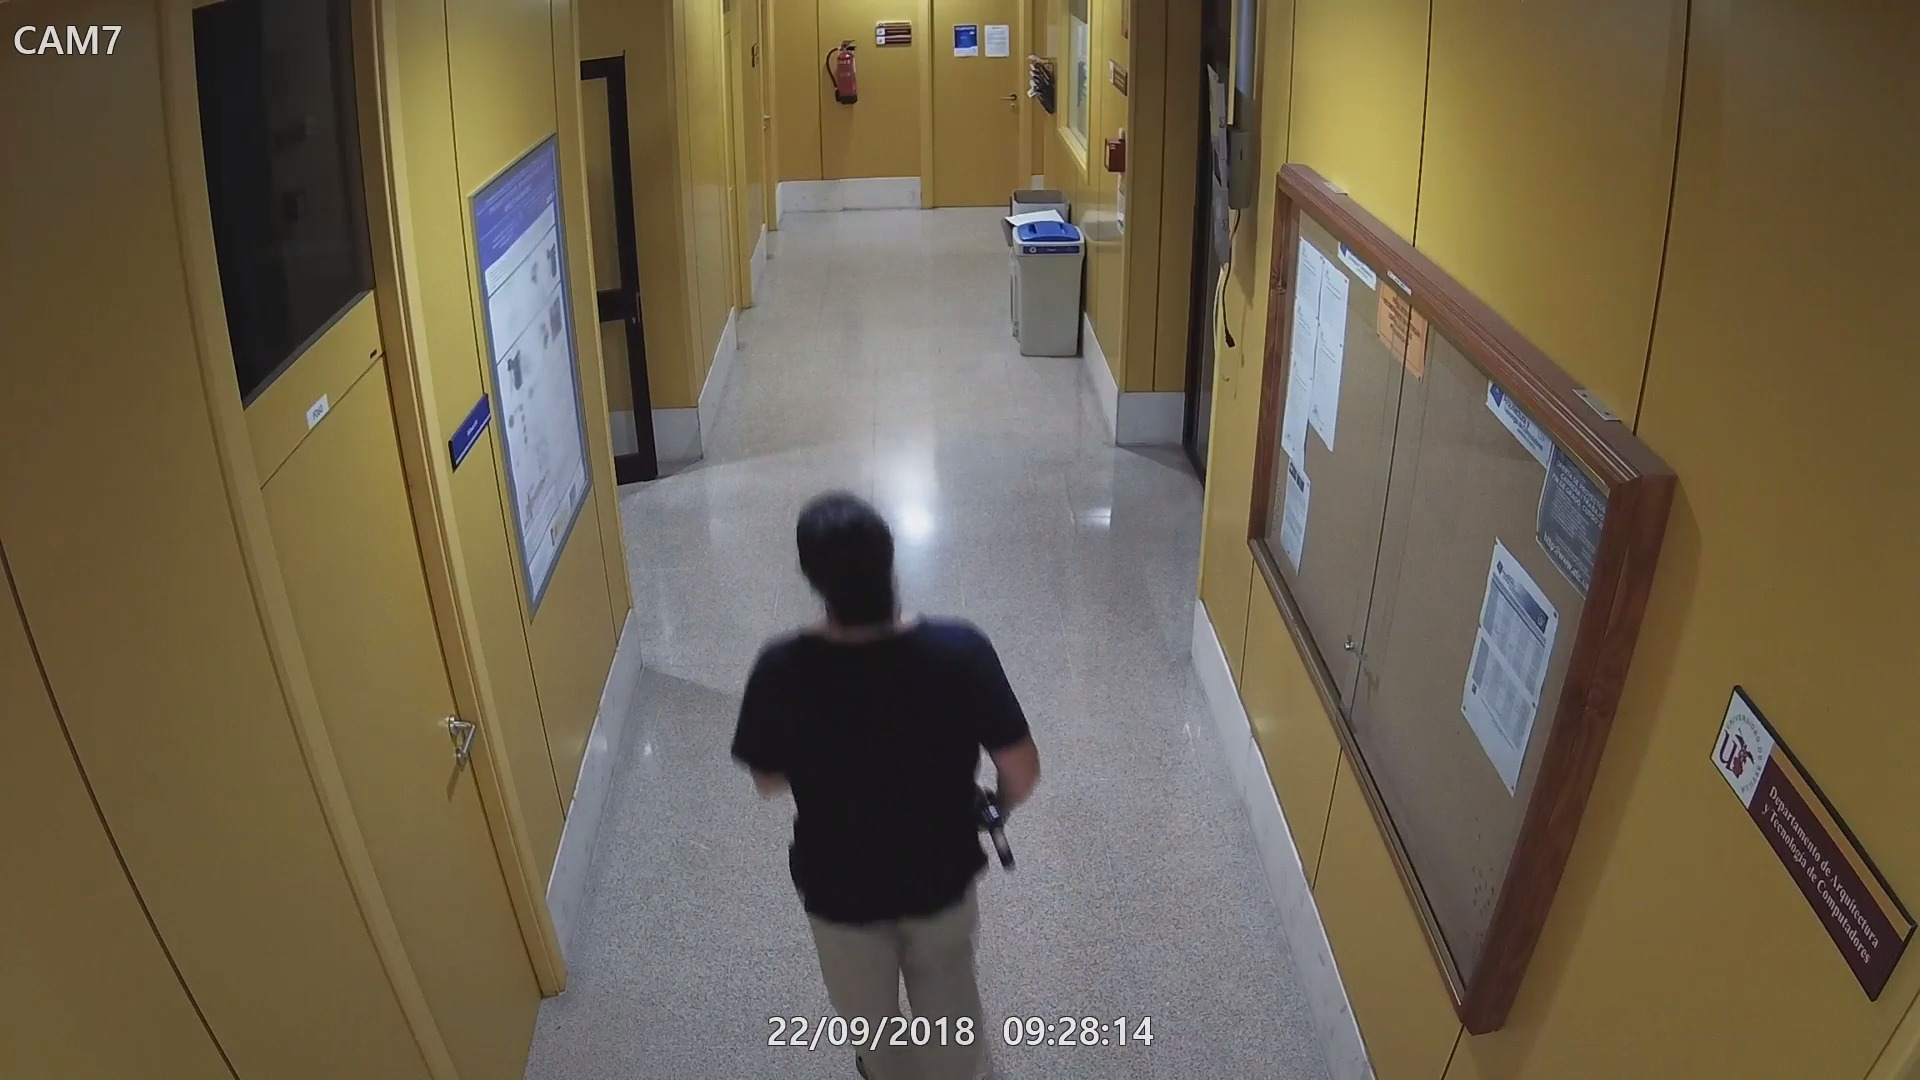Short_rifle: (978, 789, 1030, 874)
